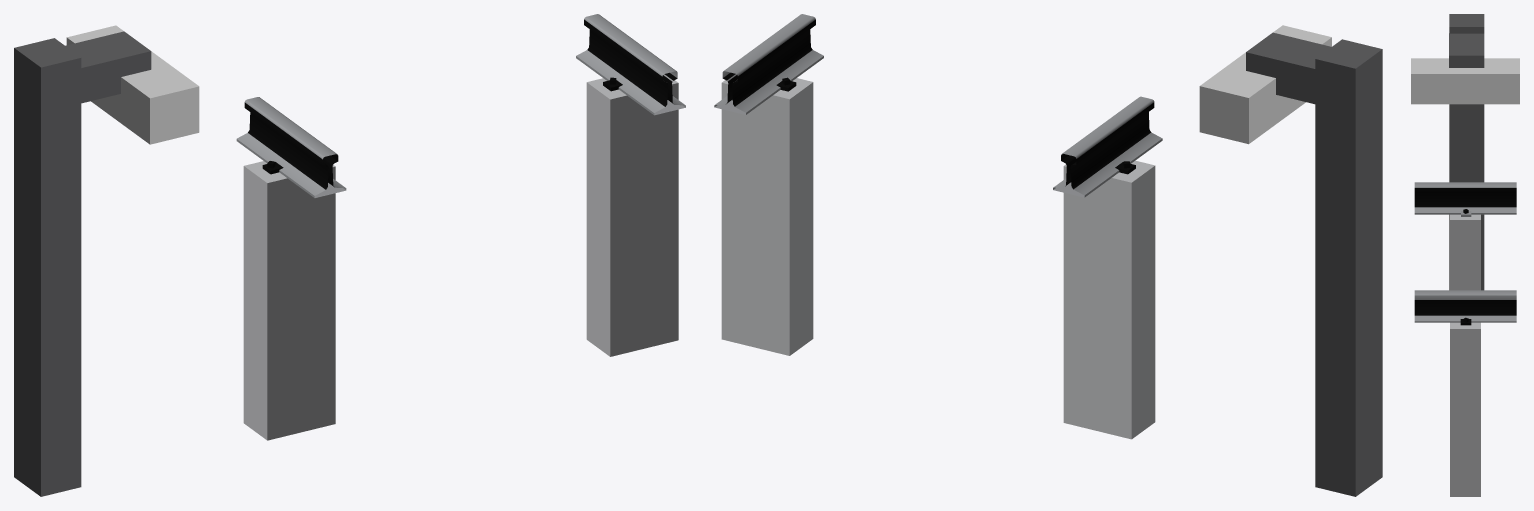
The model's file is new3rdraila.obj.
3 renders of one model, left to right at view 1: azimuth 30°, elevation 25°; view 2: azimuth 150°, elevation 25°; view 3: azimuth 270°, elevation 25°, orthographic. The views are drawn at different scales.
Visible parts, largest first — view 1: rail_siding, rail_pole_Cube.001, 3rd_rail_contact_Cube.002, pole_to_3rd_connector_Cube.003; view 2: rail_siding, rail_pole_Cube.001, 3rd_rail_contact_Cube.002, pole_to_3rd_connector_Cube.003; view 3: rail_siding, 3rd_rail_contact_Cube.002, rail_pole_Cube.001, pole_to_3rd_connector_Cube.003.
Boxes of the visible parts, x1,y1,x2,y2 form: rail_siding: (236, 14, 685, 440); rail_pole_Cube.001: (14, 38, 81, 496); 3rd_rail_contact_Cube.002: (66, 25, 199, 144); pole_to_3rd_connector_Cube.003: (65, 31, 151, 103); rail_siding: (714, 14, 1162, 439); rail_pole_Cube.001: (1315, 39, 1382, 496); 3rd_rail_contact_Cube.002: (1199, 25, 1331, 144); pole_to_3rd_connector_Cube.003: (1246, 32, 1330, 104); rail_siding: (1414, 182, 1516, 496); 3rd_rail_contact_Cube.002: (1411, 58, 1519, 104); rail_pole_Cube.001: (1449, 14, 1484, 290); pole_to_3rd_connector_Cube.003: (1449, 33, 1484, 67).
Size of the model in its own units: 2.83 by 1.82 by 0.6394.
